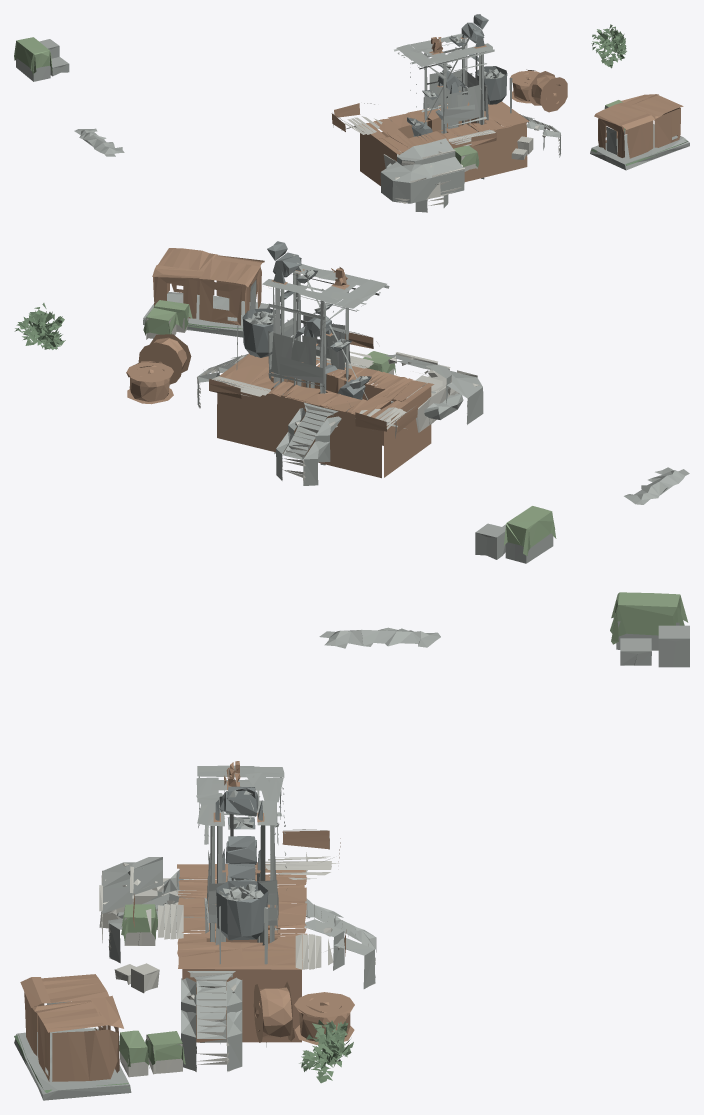
File: mining_quarry_b.glb
3 views of the same model, one above another, from view 1: azimuth 30°, elevation 25°; view 2: azimuth 150°, elevation 25°; view 3: azimuth 270°, elevation 25° (orthographic). The views are drawn at different scales.
Visible parts, largest first — view 1: retaining_wall_corner_LOD0, retaining_wall_cover_a_LOD0, quarry_track_LOD0, wooden_crate_e, remnant_container_6x4_LOD0; view 2: retaining_wall_cover_a_LOD0, retaining_wall_corner_LOD0, wooden_crate_e, quarry_track_LOD0, remnant_container_6x4_LOD0; view 3: retaining_wall_corner_LOD0, retaining_wall_cover_a_LOD0, wooden_crate_e, quarry_track_LOD0, remnant_container_6x4_LOD0.
Boxes of the visible parts, bbox=[...] form: retaining_wall_corner_LOD0: bbox=[16, 23, 689, 212]; retaining_wall_cover_a_LOD0: bbox=[331, 37, 683, 185]; quarry_track_LOD0: bbox=[407, 14, 507, 139]; wooden_crate_e: bbox=[14, 37, 625, 167]; remnant_container_6x4_LOD0: bbox=[591, 24, 687, 165]; retaining_wall_cover_a_LOD0: bbox=[126, 248, 434, 478]; retaining_wall_corner_LOD0: bbox=[143, 254, 689, 563]; wooden_crate_e: bbox=[143, 300, 556, 555]; quarry_track_LOD0: bbox=[242, 241, 371, 411]; remnant_container_6x4_LOD0: bbox=[14, 303, 267, 349]; retaining_wall_corner_LOD0: bbox=[14, 621, 689, 1100]; retaining_wall_cover_a_LOD0: bbox=[20, 761, 354, 1081]; wooden_crate_e: bbox=[119, 592, 688, 1068]; quarry_track_LOD0: bbox=[215, 786, 268, 940]; remnant_container_6x4_LOD0: bbox=[14, 1020, 353, 1092].
Size of the model in its own units: 48.18 by 13.54 by 33.15.
